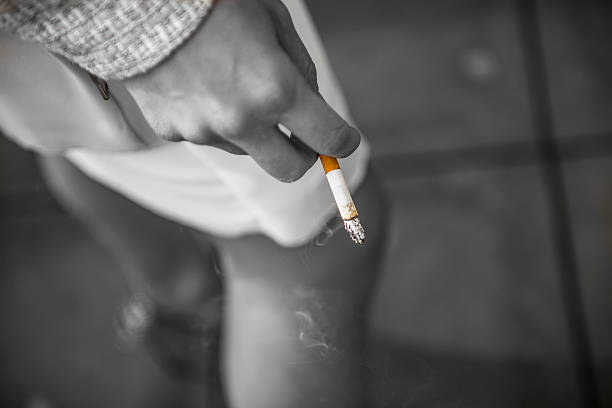cigarette: (320, 156, 367, 246)
